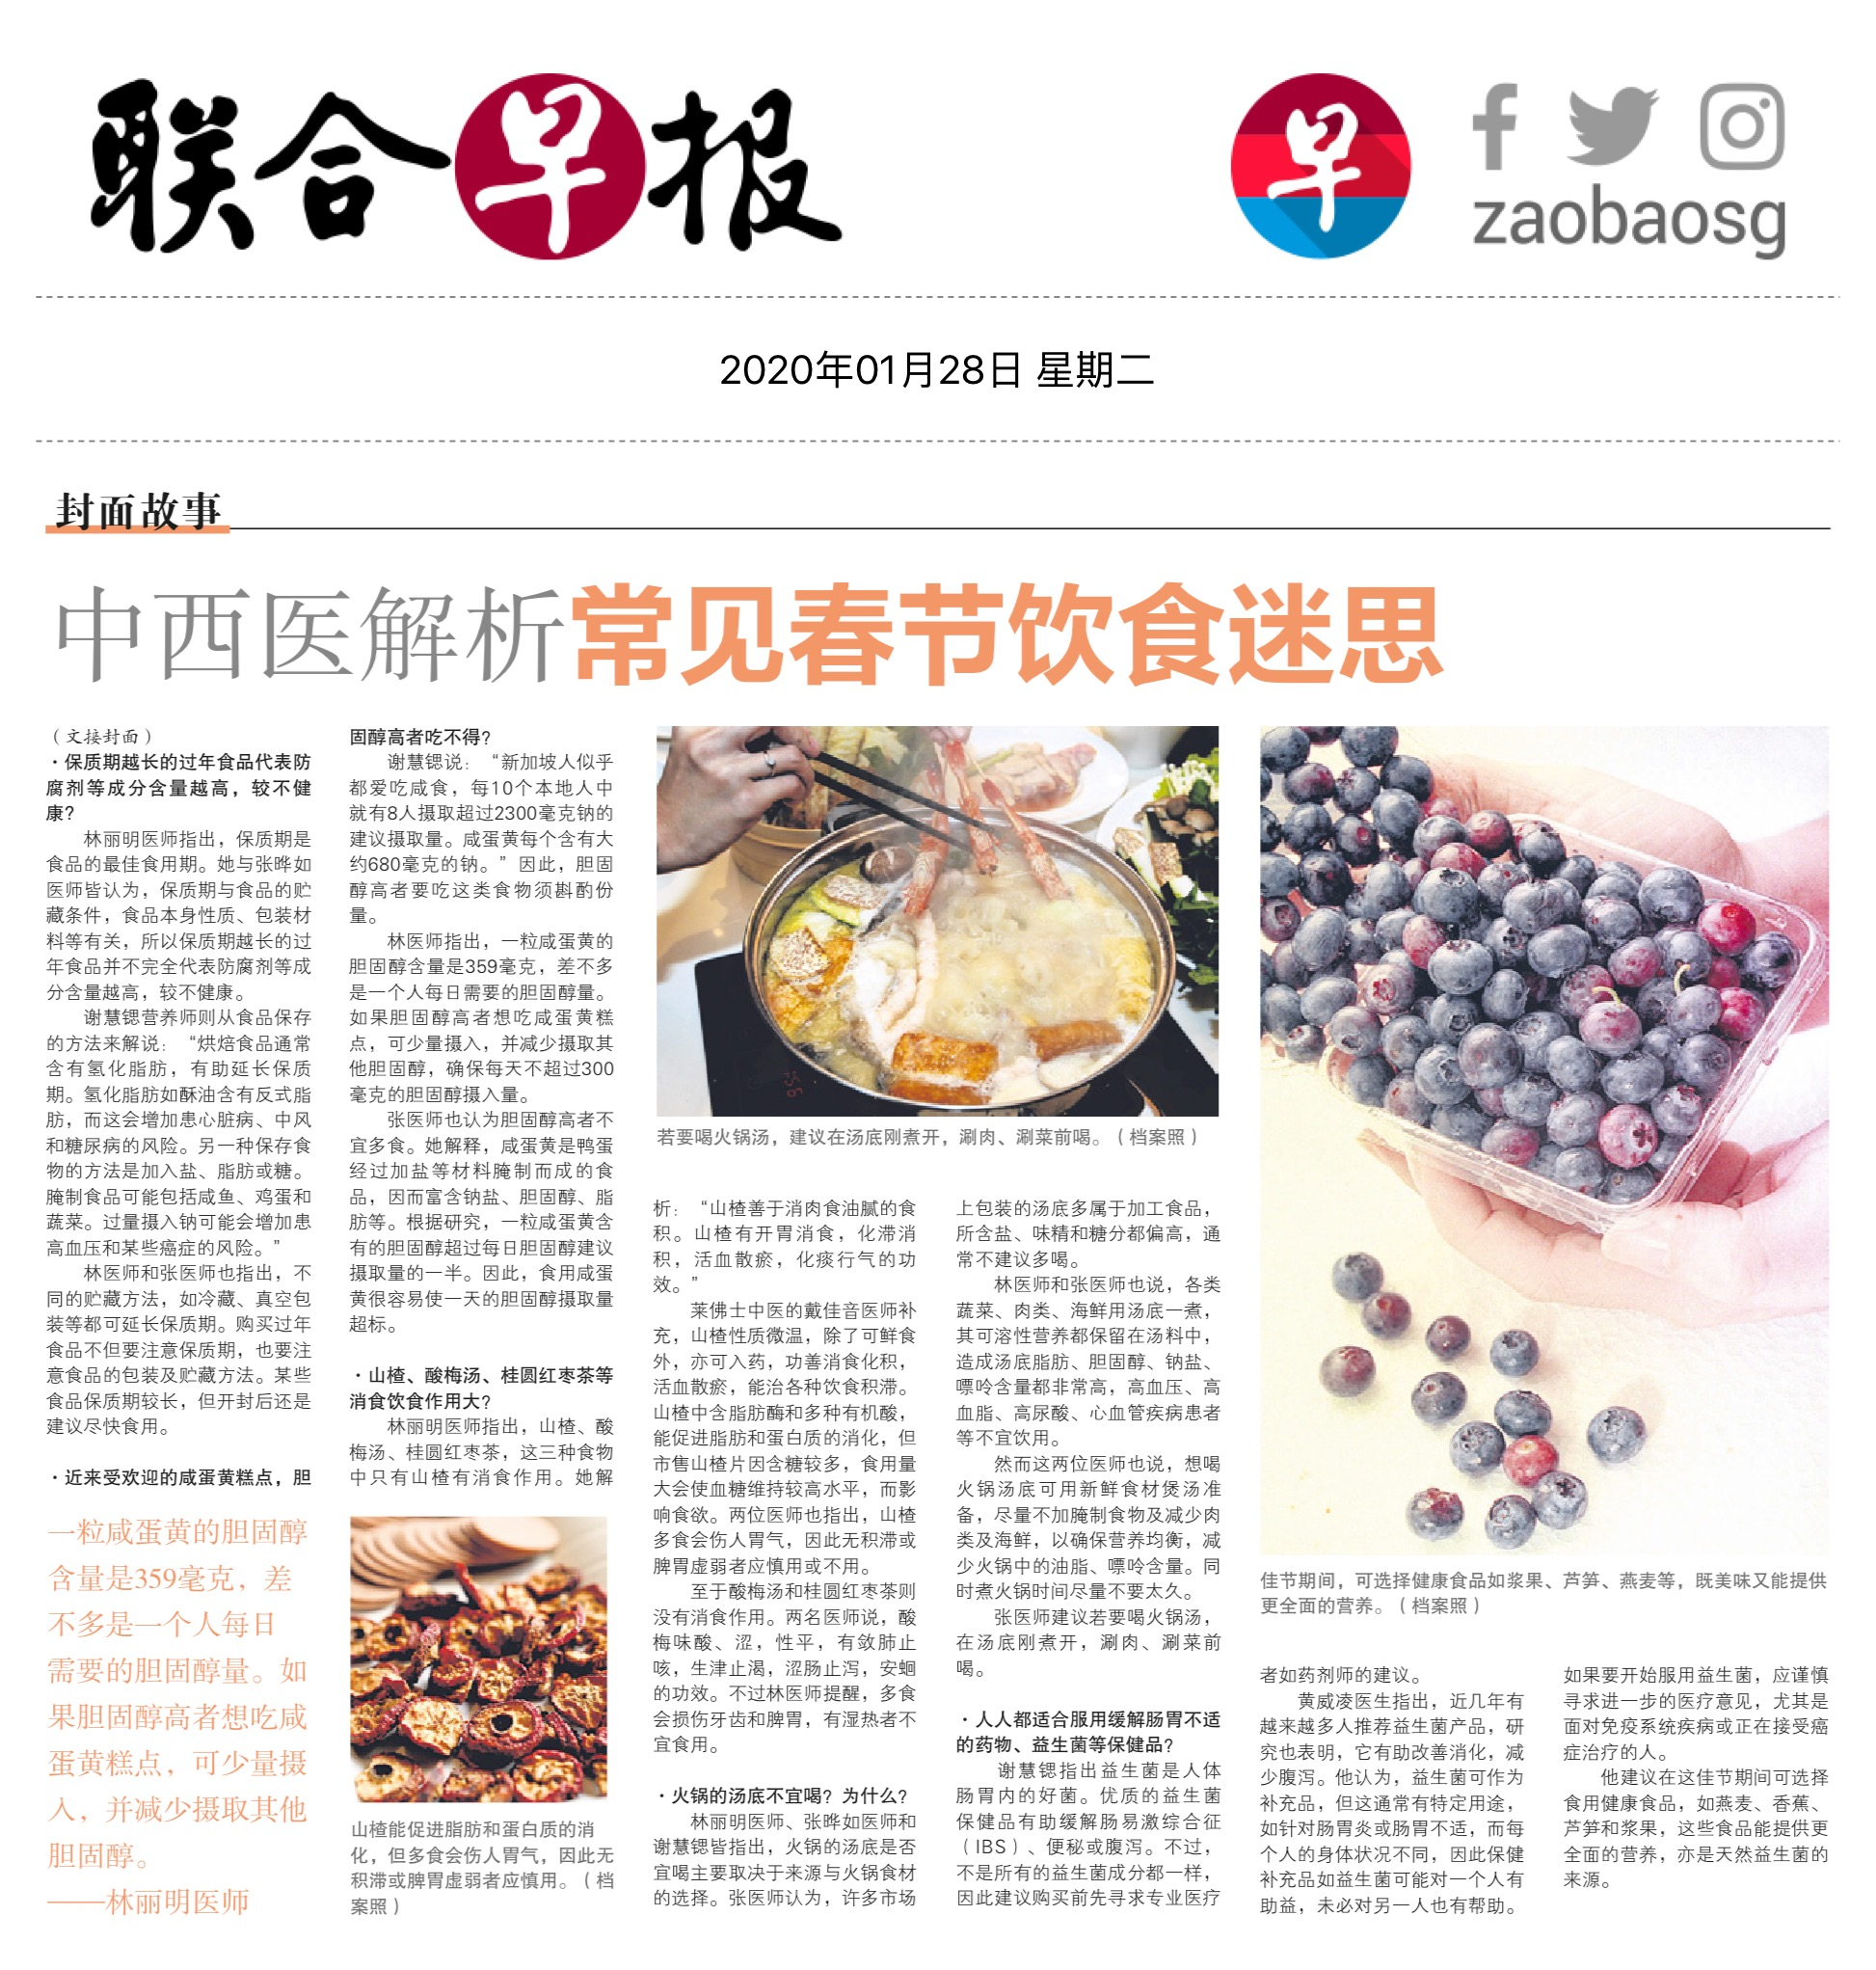heading_test: (42, 572, 1454, 702)
